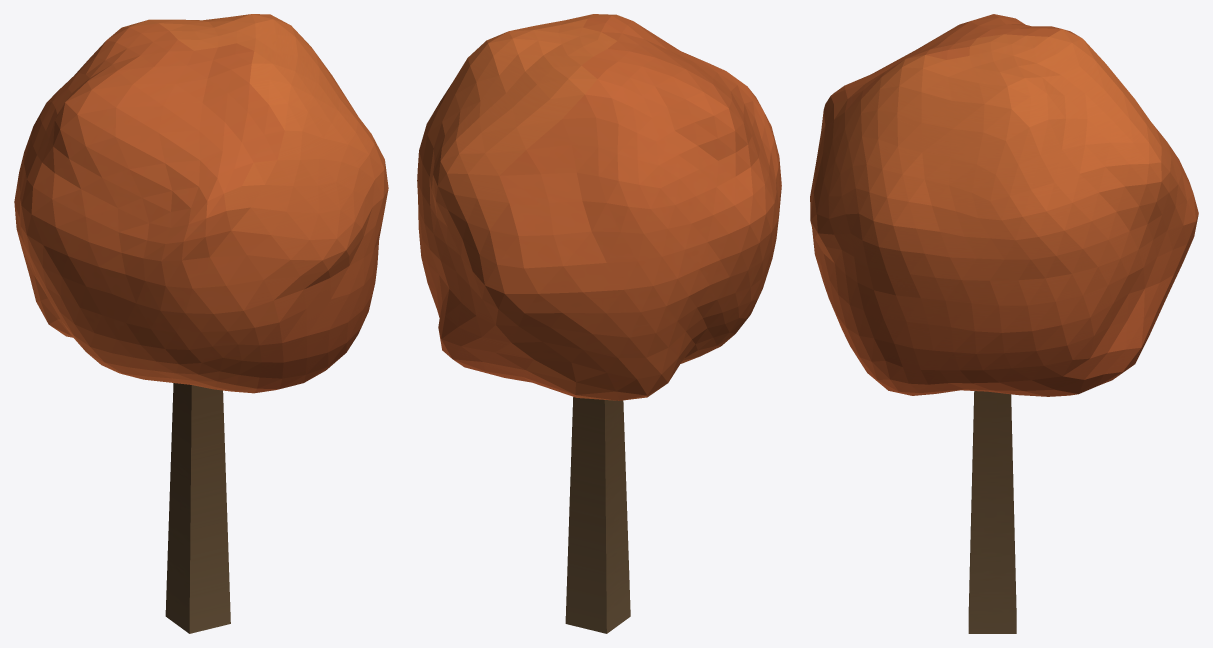
Rendered from small-tree-2.glb.
3 views of the same model, side by side, from view 1: azimuth 30°, elevation 25°; view 2: azimuth 150°, elevation 25°; view 3: azimuth 270°, elevation 25° (orthographic).
Visible parts, largest first — view 1: small-tree-2; view 2: small-tree-2; view 3: small-tree-2.
Part boxes in pixels (left/top/right/bottom): small-tree-2: left=14, top=14, right=388, bottom=633; small-tree-2: left=417, top=14, right=781, bottom=633; small-tree-2: left=810, top=14, right=1198, bottom=633.
Bounding box in the file's own units: 0.4007 × 0.6864 × 0.4149.
Materials: 1 (1 with a texture image).
